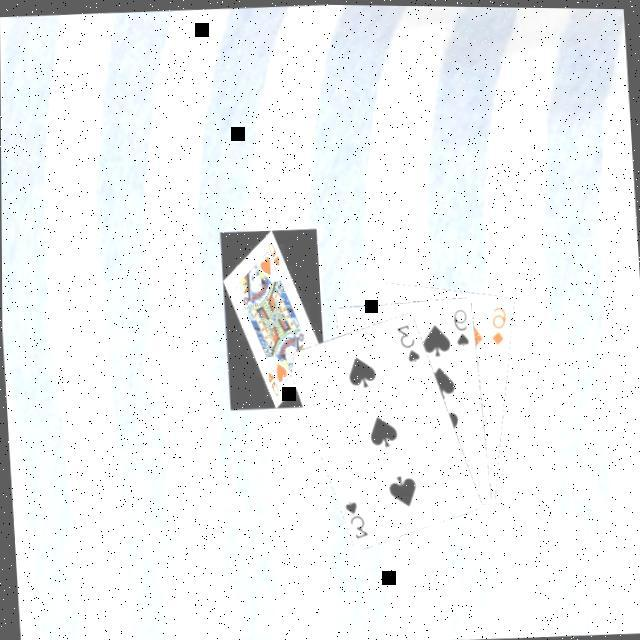3S: (392, 316, 422, 362), (340, 493, 370, 539)
6D: (486, 300, 510, 345)
9S: (449, 302, 471, 348)
